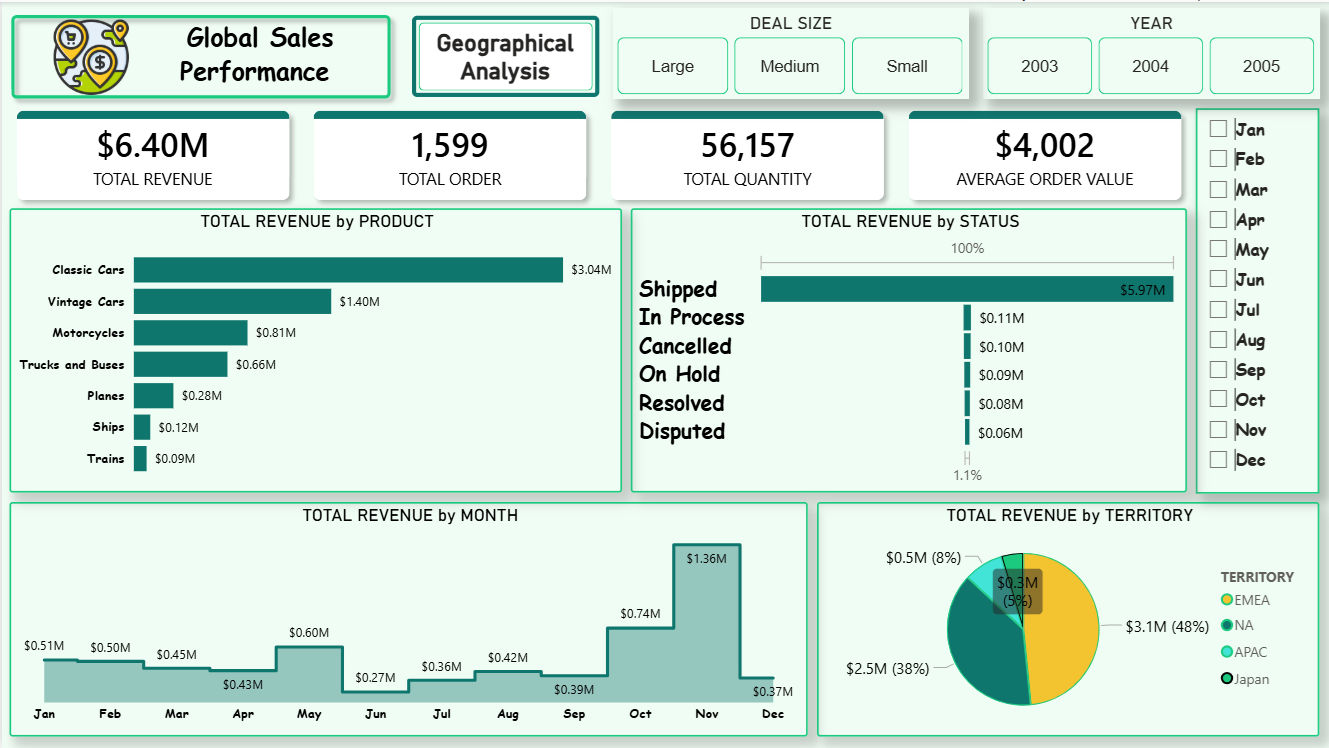

Layout of this report page (visuals, bound fields, positions):
{"tool":"powerbi","page":{"name":"Business Overview","canvas":[1280,720],"ordinal":0},"visuals":[{"type":"cardVisual","fields":{"Data":["Dashboard sample.TOTAL REVENUE","Dashboard sample.TOTAL ORDER","Dashboard sample.TOTAL QUANTITY","Dashboard sample.AVERAGE ORDER VALUE"]},"box":[0,88.1,1152.2,120.6],"z":0},{"type":"slicer","fields":{"Values":["Dashboard sample.MONTH_NAME"]},"box":[1152.2,102.2,119.4,371.8],"z":1000},{"type":"advancedSlicerVisual","title":"YEAR","fields":{"Values":["Dashboard sample.YEAR_ID"]},"box":[946.6,6.2,325,87.4],"z":2000},{"type":"advancedSlicerVisual","title":"DEAL SIZE","fields":{"Values":["Dashboard sample.DEAL_SIZE"]},"box":[589.7,6.2,343.5,87.4],"z":3000},{"type":"shape","box":[0,3.7,384.1,98.5],"z":4000},{"type":"textbox","box":[126.7,10.9,244.9,77.2],"z":5000},{"type":"image","box":[24.1,14.5,124.3,77.2],"z":6000},{"type":"barChart","title":"TOTAL REVENUE by PRODUCT","fields":{"Category":["Dashboard sample.PRODUCT_LINE"],"Y":["Dashboard sample.TOTAL REVENUE"]},"box":[7.4,199.4,590.9,274.5],"z":7000},{"type":"funnel","fields":{"Category":["Dashboard sample.STATUS"],"Y":["Dashboard sample.TOTAL REVENUE"]},"box":[606.9,199.4,536.7,274.5],"z":8000},{"type":"lineChart","title":"TOTAL REVENUE by MONTH","fields":{"Category":["Dashboard sample.MONTH_NAME"],"Y":["Dashboard sample.TOTAL REVENUE"]},"box":[7.4,482.6,770.6,226.5],"z":9000},{"type":"pieChart","fields":{"Category":["Dashboard sample.TERRITORY"],"Y":["Dashboard sample.TOTAL REVENUE"]},"box":[786.6,482.6,485,226.5],"z":10000},{"type":"pageNavigator","box":[395.2,13.5,181,78.8],"z":11000}]}

Visuals, with their boxes in screenshot pixels (x1, y1, x2, y2), scaled from the page's 1280x720 canvas onto the 1329x748 screenshot:
cardVisual - Dashboard sample.TOTAL REVENUE x Dashboard sample.TOTAL ORDER: (0,92,1196,217)
slicer - Dashboard sample.MONTH_NAME: (1196,106,1320,492)
"YEAR" advancedSlicerVisual: (983,6,1320,97)
"DEAL SIZE" advancedSlicerVisual: (612,6,969,97)
shape: (0,4,399,106)
textbox: (132,11,386,92)
image: (25,15,154,95)
"TOTAL REVENUE by PRODUCT" barChart: (8,207,621,492)
funnel - Dashboard sample.STATUS x Dashboard sample.TOTAL REVENUE: (630,207,1187,492)
"TOTAL REVENUE by MONTH" lineChart: (8,501,808,737)
pieChart - Dashboard sample.TERRITORY x Dashboard sample.TOTAL REVENUE: (817,501,1320,737)
pageNavigator: (410,14,598,96)
